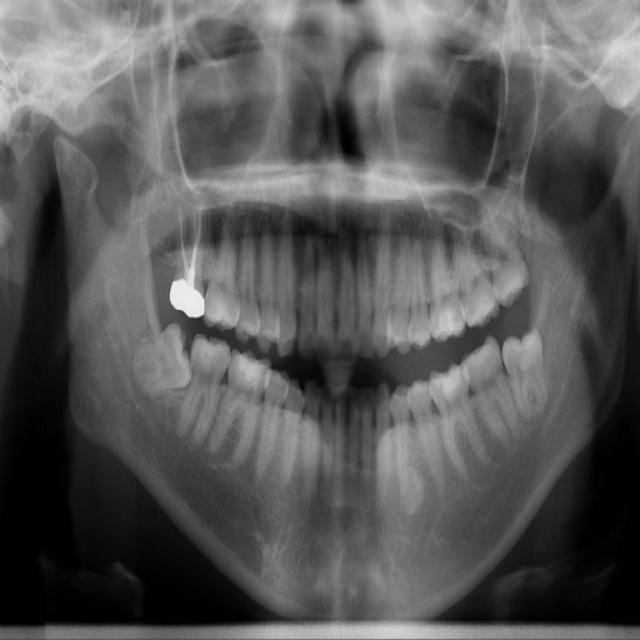52: (419, 356, 483, 418), (217, 342, 277, 402), (161, 272, 215, 324), (423, 295, 472, 345)
73: (174, 197, 208, 289), (616, 582, 632, 598)
BioHorizons Implant: (445, 220, 505, 333)
BioLife Implant: (473, 192, 536, 311)
Biomet 3i Implant: (497, 325, 561, 422)
Blue Sky Bio Implant: (455, 333, 524, 456)
Caries: (166, 196, 214, 319)
Implant: (174, 331, 234, 452)
Keystone Dental Implant: (121, 320, 199, 399)
